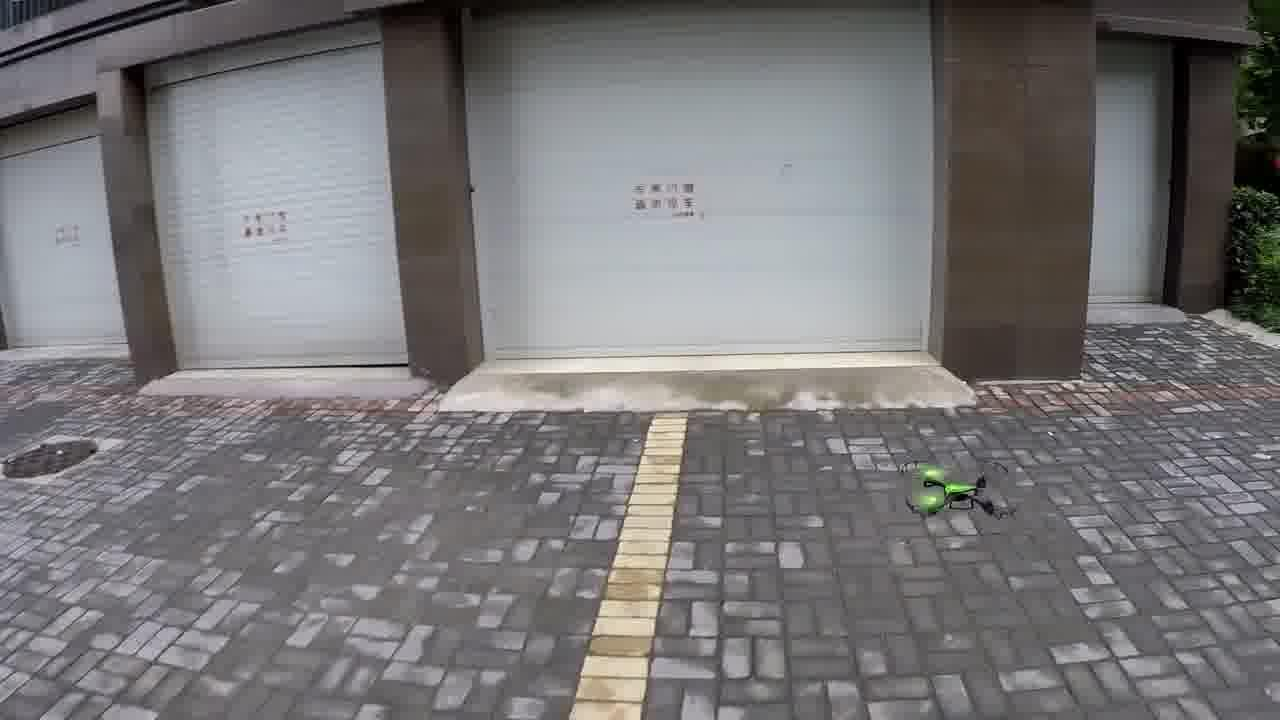drone: (899, 454, 1036, 528)
